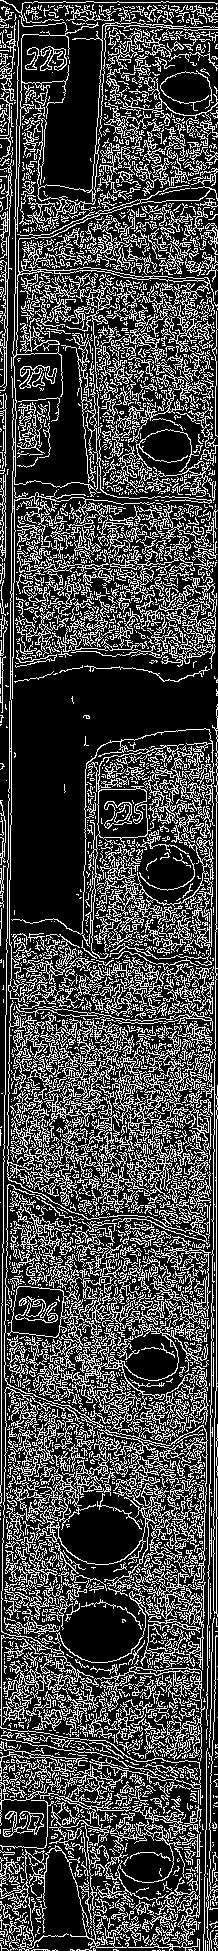hplug: (112, 1324, 192, 1402), (130, 406, 212, 480), (115, 1830, 191, 1907), (135, 834, 206, 908), (149, 46, 218, 119)
scal: (50, 1482, 156, 1584), (54, 1586, 158, 1686)
vplug: (7, 761, 108, 958), (27, 310, 112, 506), (36, 17, 108, 210), (24, 1820, 100, 1951)
